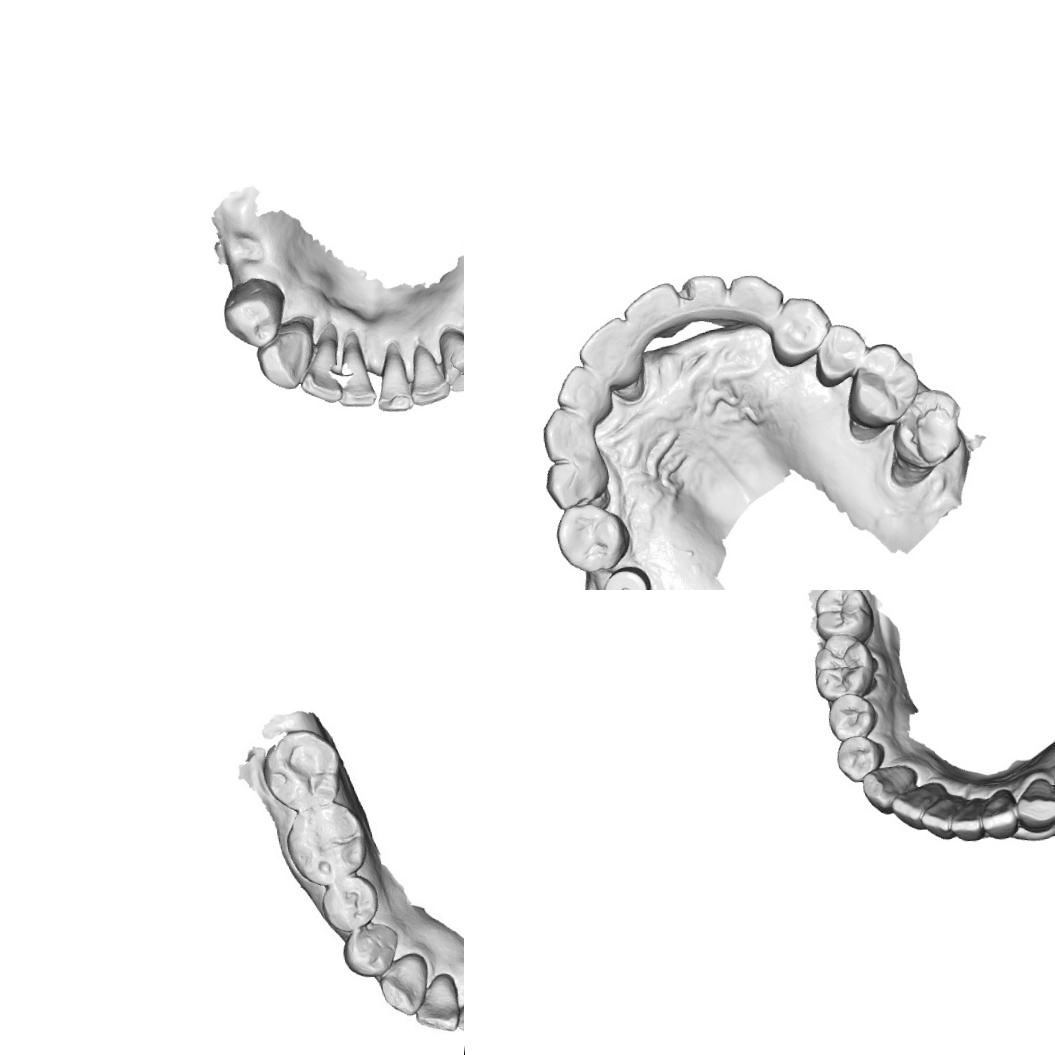canine: (254, 323, 318, 394), (539, 403, 610, 466), (725, 268, 788, 334), (377, 950, 433, 1018), (858, 762, 922, 816), (1010, 773, 1055, 836), (434, 326, 464, 397)
implant: (604, 565, 651, 590)
incisor: (572, 314, 644, 392), (618, 274, 686, 346), (550, 361, 618, 426), (367, 338, 418, 418), (403, 341, 455, 410), (676, 268, 733, 330), (888, 778, 952, 830), (297, 343, 348, 408), (332, 346, 378, 414), (410, 972, 460, 1031), (976, 786, 1020, 844), (914, 790, 960, 845), (944, 794, 990, 846), (453, 974, 464, 1035)
molar: (838, 337, 928, 434), (882, 382, 970, 478), (257, 728, 350, 814), (285, 800, 373, 885), (806, 628, 880, 704), (809, 590, 878, 643)
premolar: (761, 290, 834, 372), (218, 273, 288, 353), (558, 502, 634, 572), (808, 317, 872, 391), (542, 456, 606, 514), (317, 872, 378, 932), (341, 920, 401, 976), (832, 731, 889, 786), (823, 690, 882, 742)
